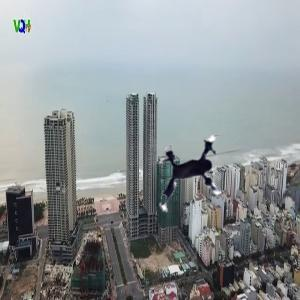drone: (143, 124, 251, 232)
